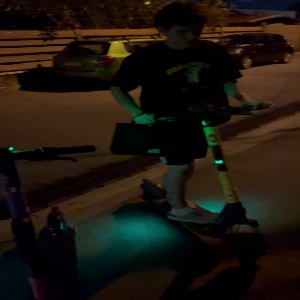human on a scooter: (103, 1, 281, 270)
